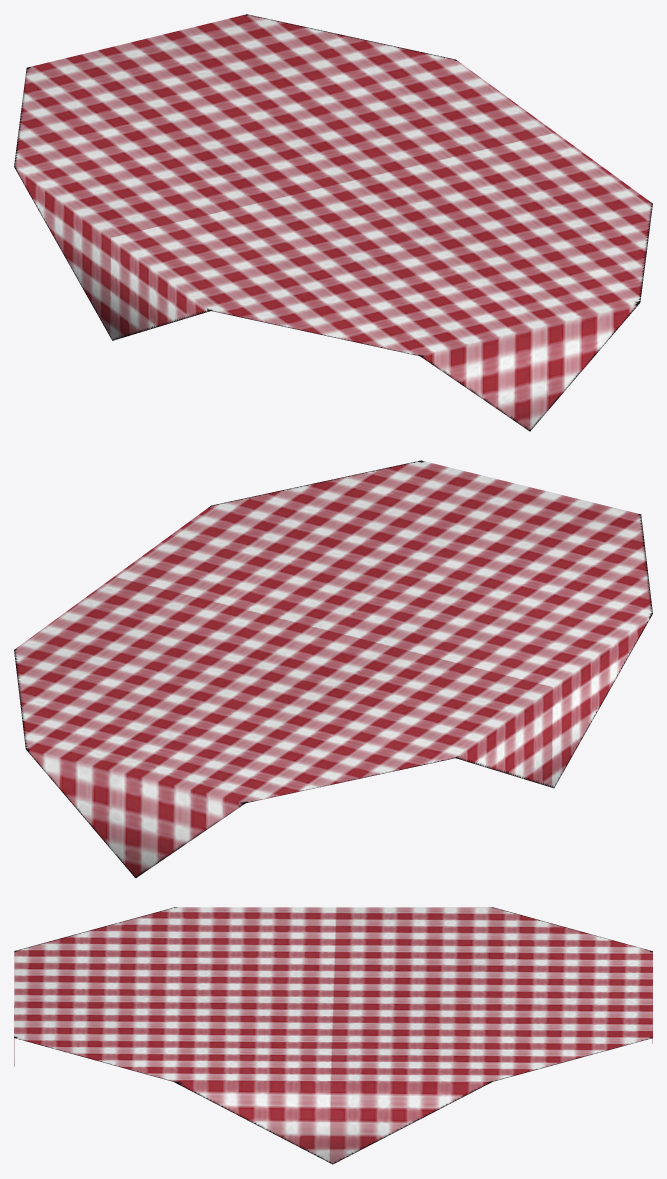
Rendered from Table_Cloth.fbx.
The picture shows the model from 3 angles, top to bottom: view 1: azimuth 30°, elevation 25°; view 2: azimuth 150°, elevation 25°; view 3: azimuth 270°, elevation 25°; orthographic projection. The views are drawn at different scales.
Visible parts, largest first — view 1: Table_Cloth; view 2: Table_Cloth; view 3: Table_Cloth.
Part boxes in pixels (bbox=[...]): Table_Cloth: bbox=[14, 14, 652, 431]; Table_Cloth: bbox=[14, 460, 652, 878]; Table_Cloth: bbox=[14, 907, 652, 1164].
Size of the model in its own units: 1781 by 394 by 2757.
